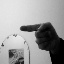g: (19, 21, 58, 53)
